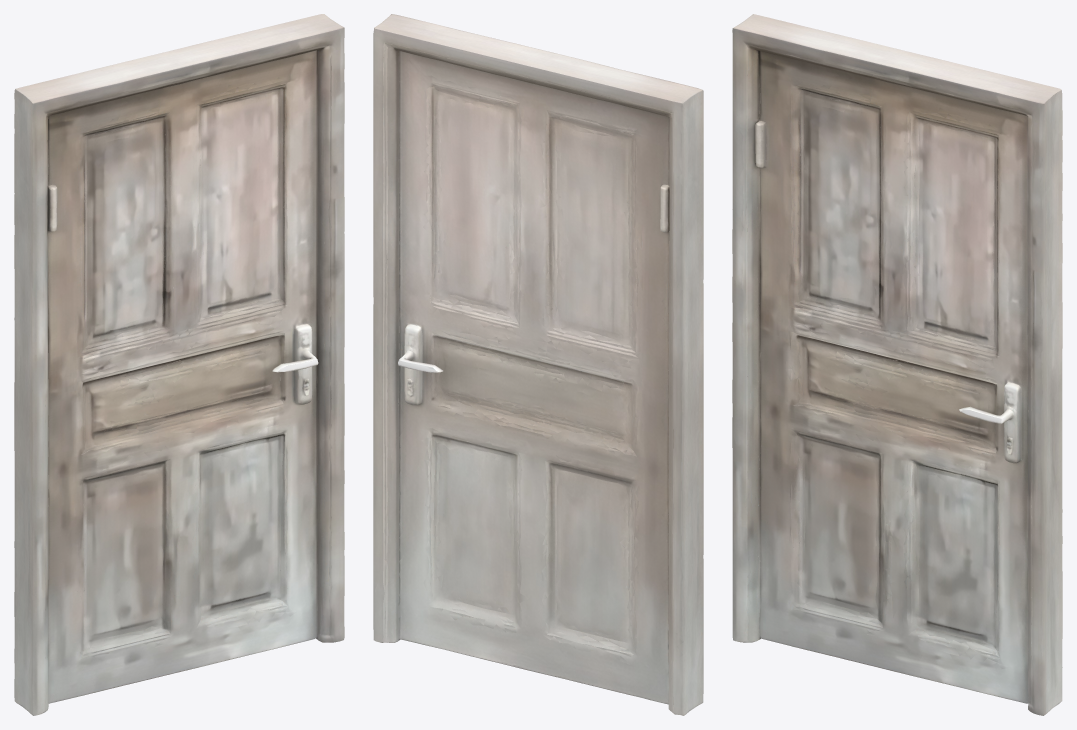
File: model_shaded.glb
3 views of the same model, side by side, from view 1: azimuth 30°, elevation 25°; view 2: azimuth 150°, elevation 25°; view 3: azimuth 330°, elevation 25° (orthographic).
Visible parts, largest first — view 1: Mesh; view 2: Mesh; view 3: Mesh.
Boxes of the visible parts, <box> form: Mesh: <box>14,14,344,715</box>; Mesh: <box>373,14,703,715</box>; Mesh: <box>732,14,1062,715</box>.
Bounding box in the file's own units: 0.9588 × 1.8 × 0.1972.
Materials: 1 (1 with a texture image).
